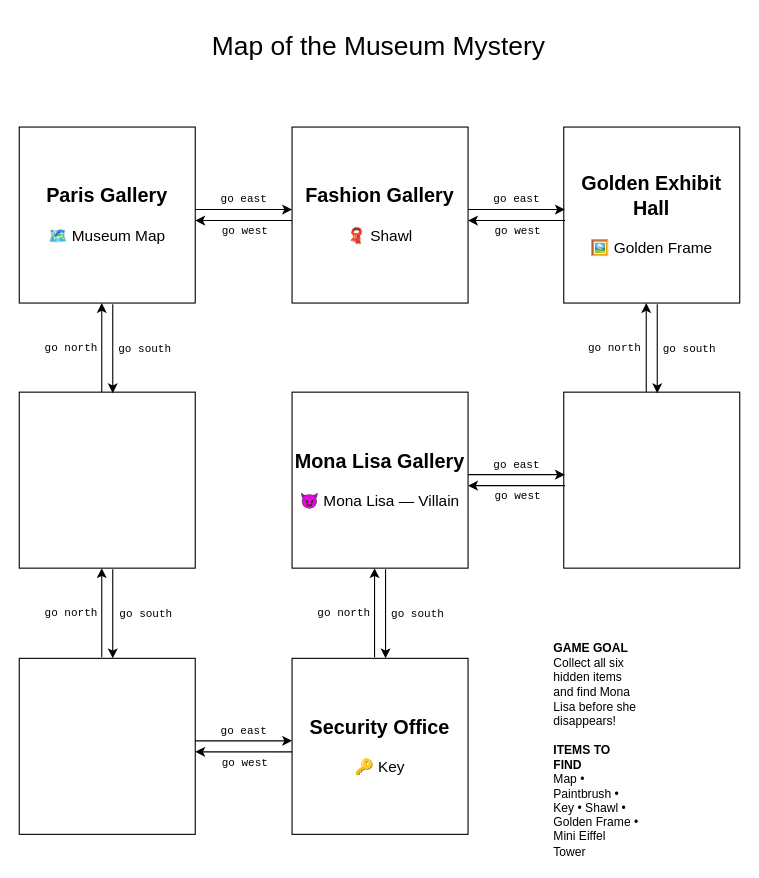
Image size: 759x878. Some labels were removed from this diagram. Here are the shapes that lost their labels. From the top down, the centre of each, then its label:
[106,479]: Art Studio 🖌️ Paintbrush
[651,479]: Paris Souvenir Room 🗼 Mini Eiffel Tower
[106,745]: Museum Entrance 🚪 START ROOM
